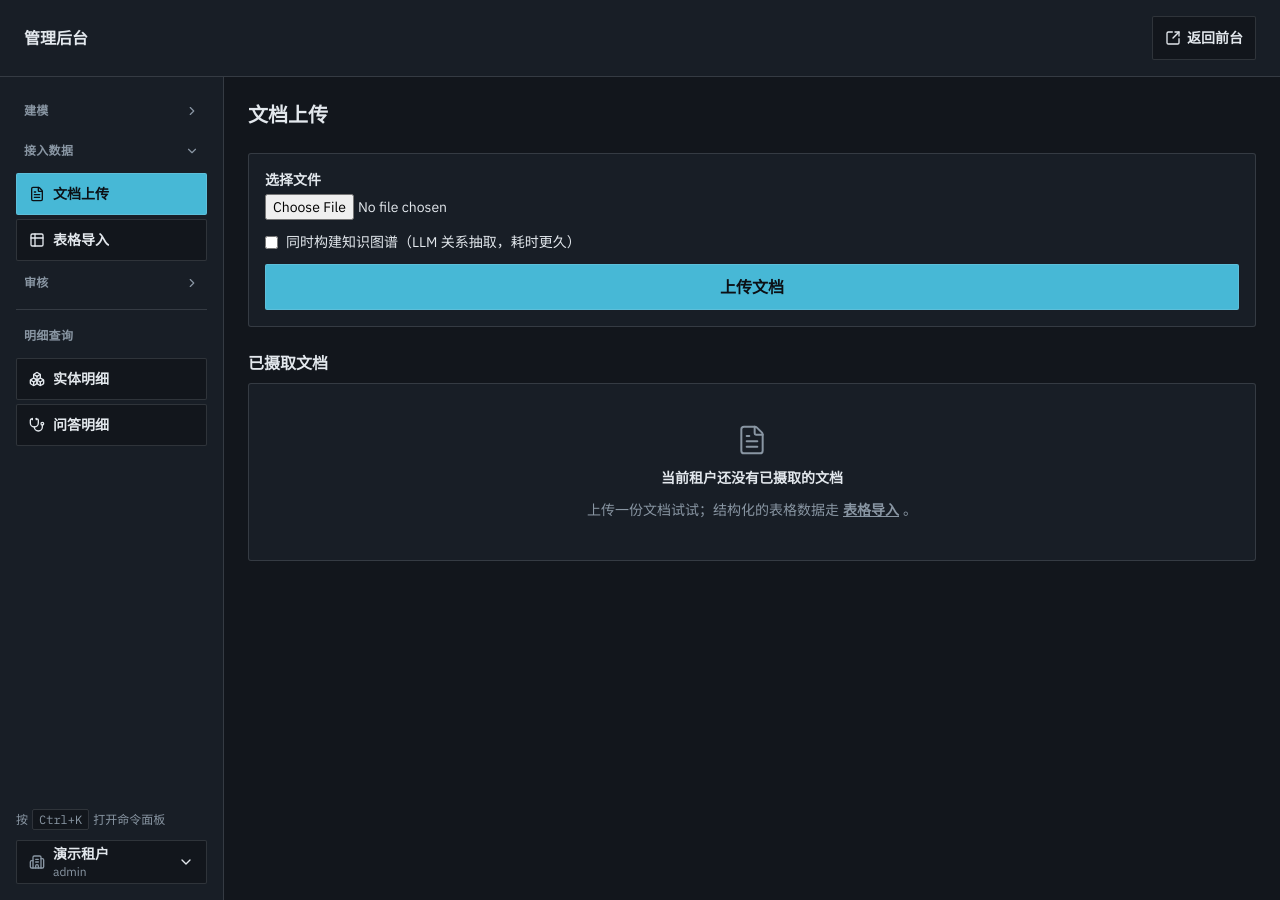
admin 的菜单 › 该有的都在
The width and height of the screenshot is (1280, 900).
Check: the header with test id "admin-topbar" is shown, box [0,0,1279,77]
Click the button with aria-label "账号与租户".
click(112, 862)  # box [16,840,207,884]
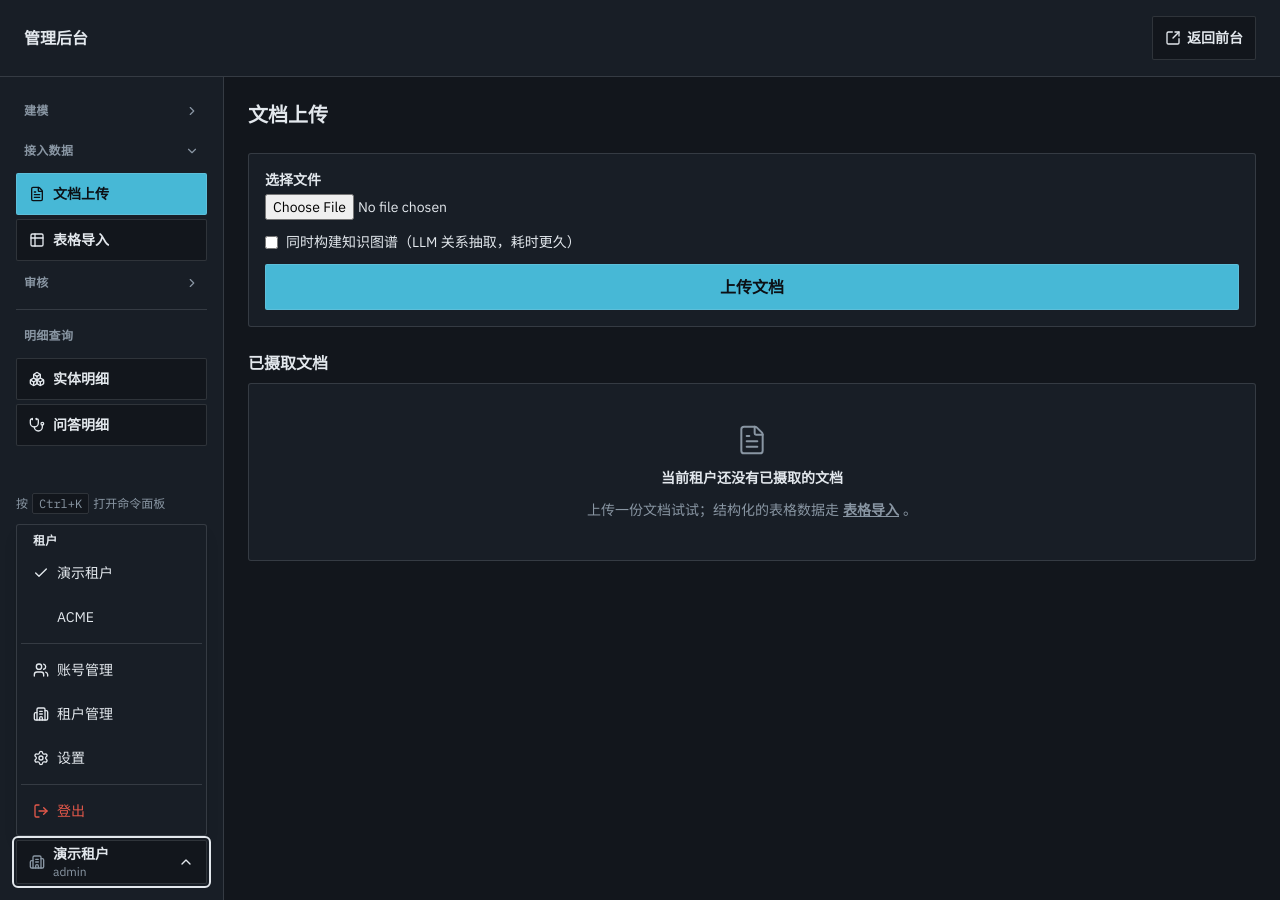
Check: the menu item "账号管理" is shown, box [33,661,113,679]
Check: the menu item "租户管理" is shown, box [33,705,113,723]
Check: the menu item "设置" is shown, box [33,749,85,767]
